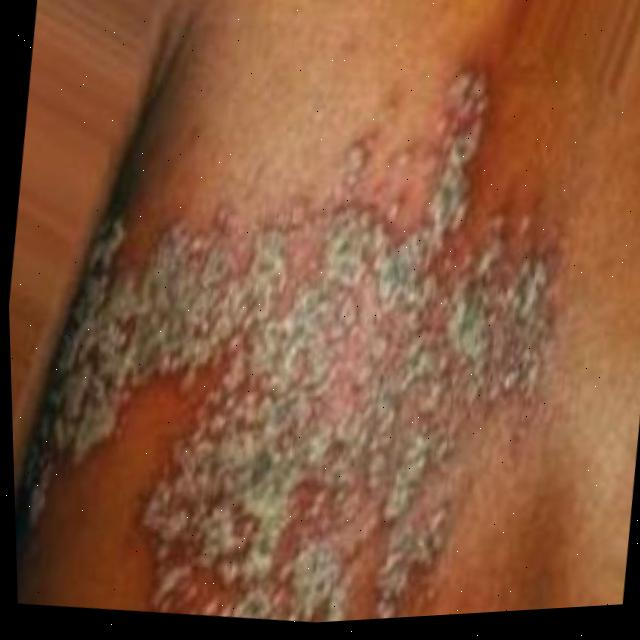Shingles: (1, 14, 590, 640)
